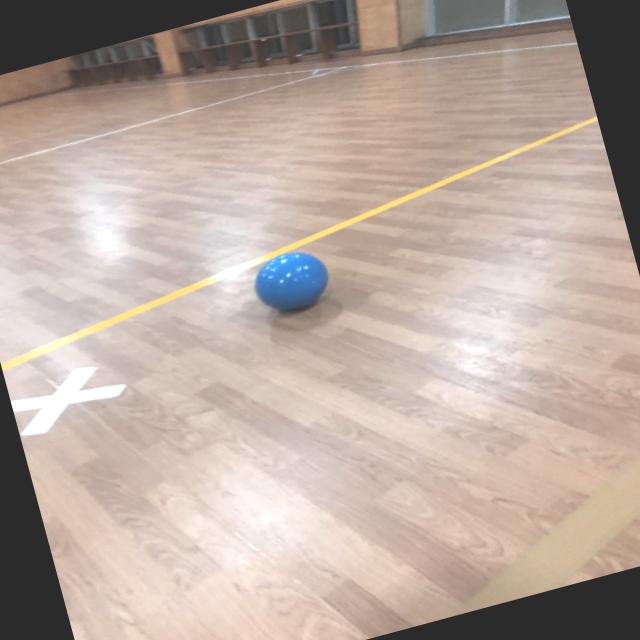blue_ball: (248, 239, 333, 326)
